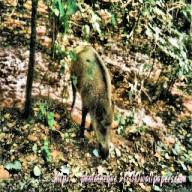boar: (68, 43, 114, 159)
